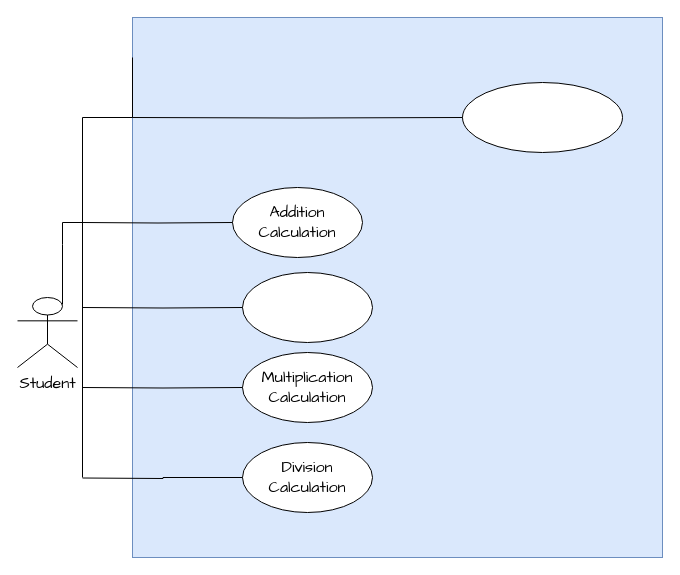
The diagram is 680 pixels wide and 575 high, and some of its shapes have lost their labels. Here are the shapes that lost their labels. From the top down, the centre of each, then its label:
[542,117]: input numbers
[307,307]: Subtraction Calculation
